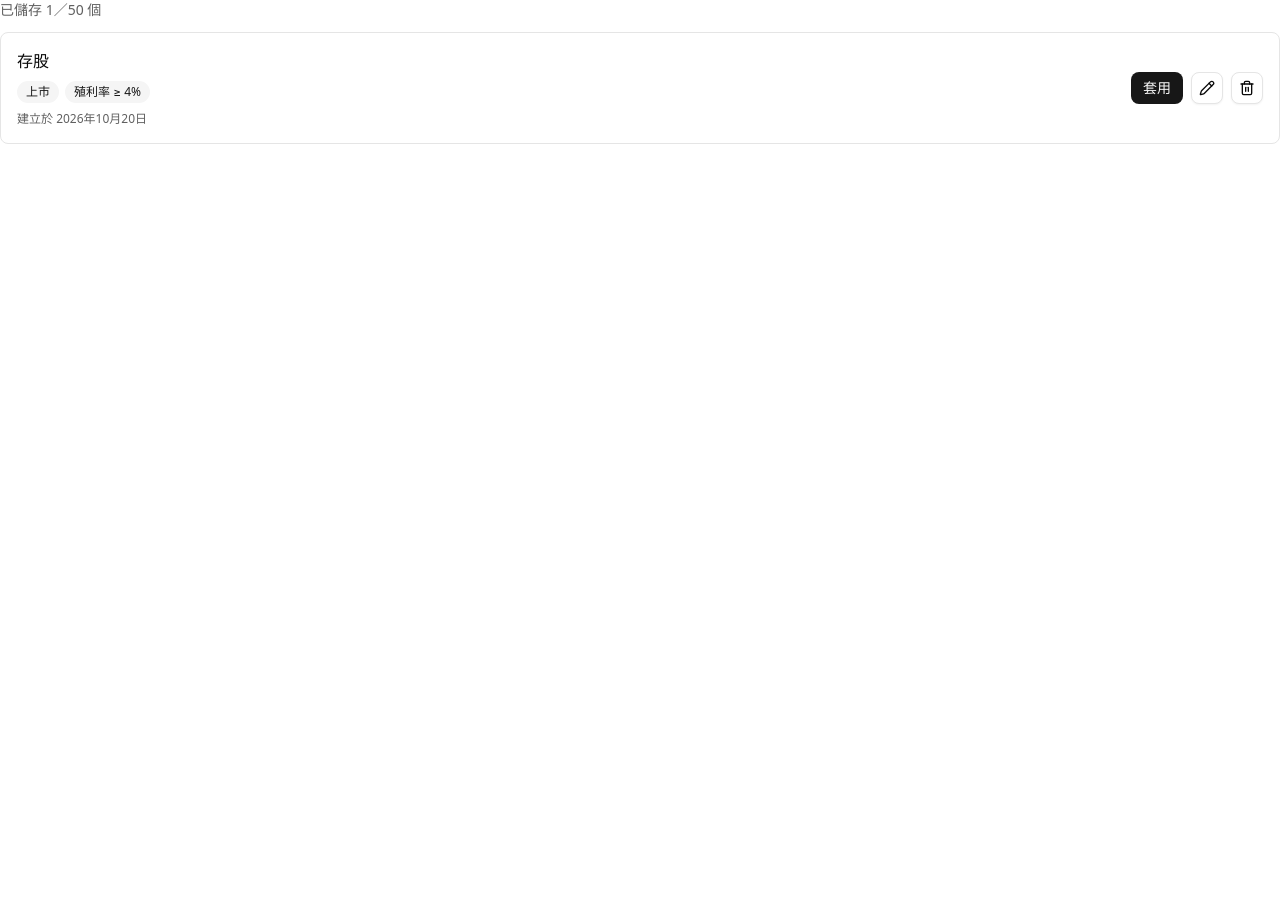
Test: StrategiesView › 列出條件摘要，可以重新命名與刪除
The width and height of the screenshot is (1280, 900).
Check: the text "殖利率 ≥ 4%" is shown, box [65,81,150,103]
Check: the text "上市" is shown, box [17,81,59,103]
Click the button named "重新命名「存股」". click: (1207, 88)
box: [1191,72,1223,104]
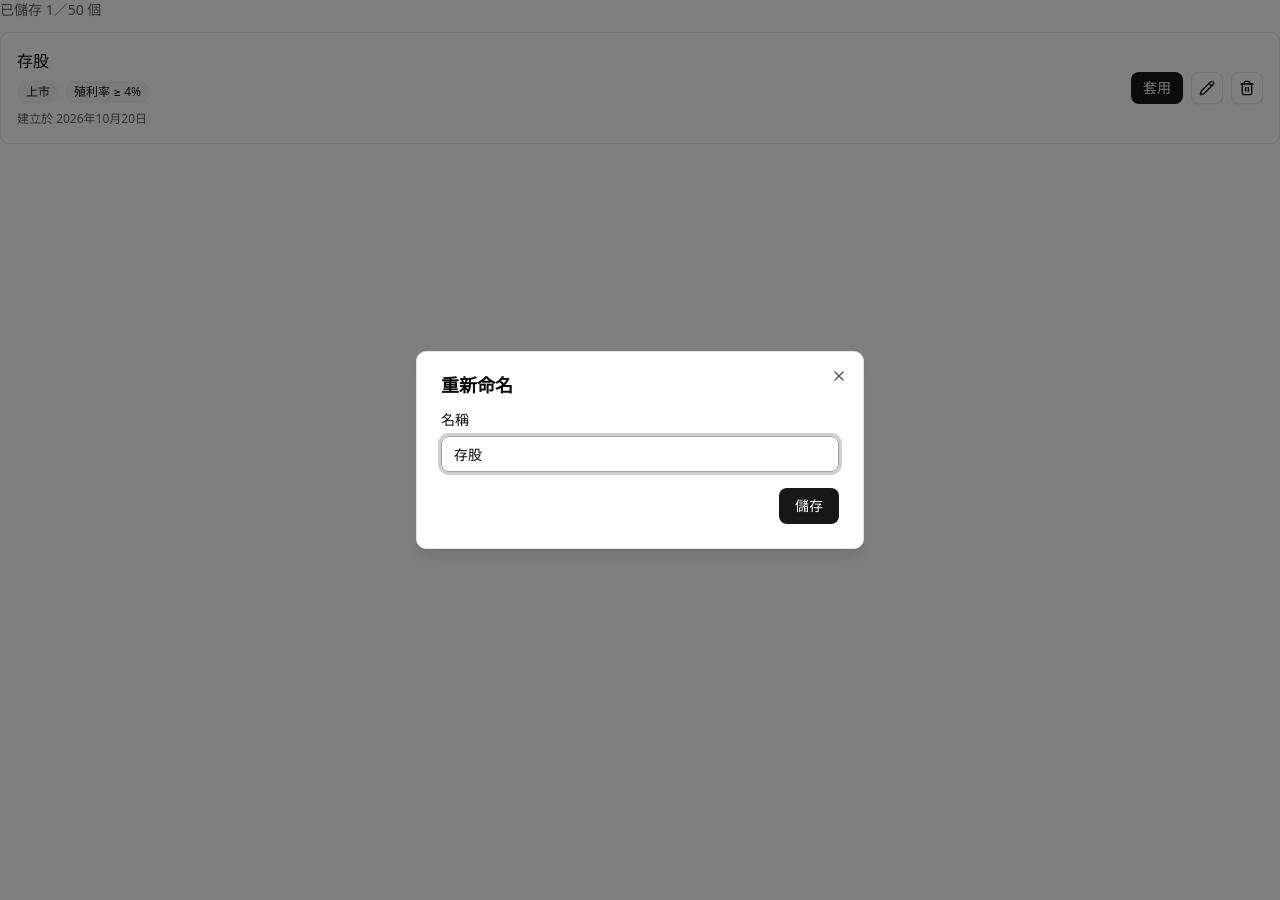
Replace the text in the field labelled "名稱" with "高殖利率". click: (640, 454)
box: [441,436,839,472]
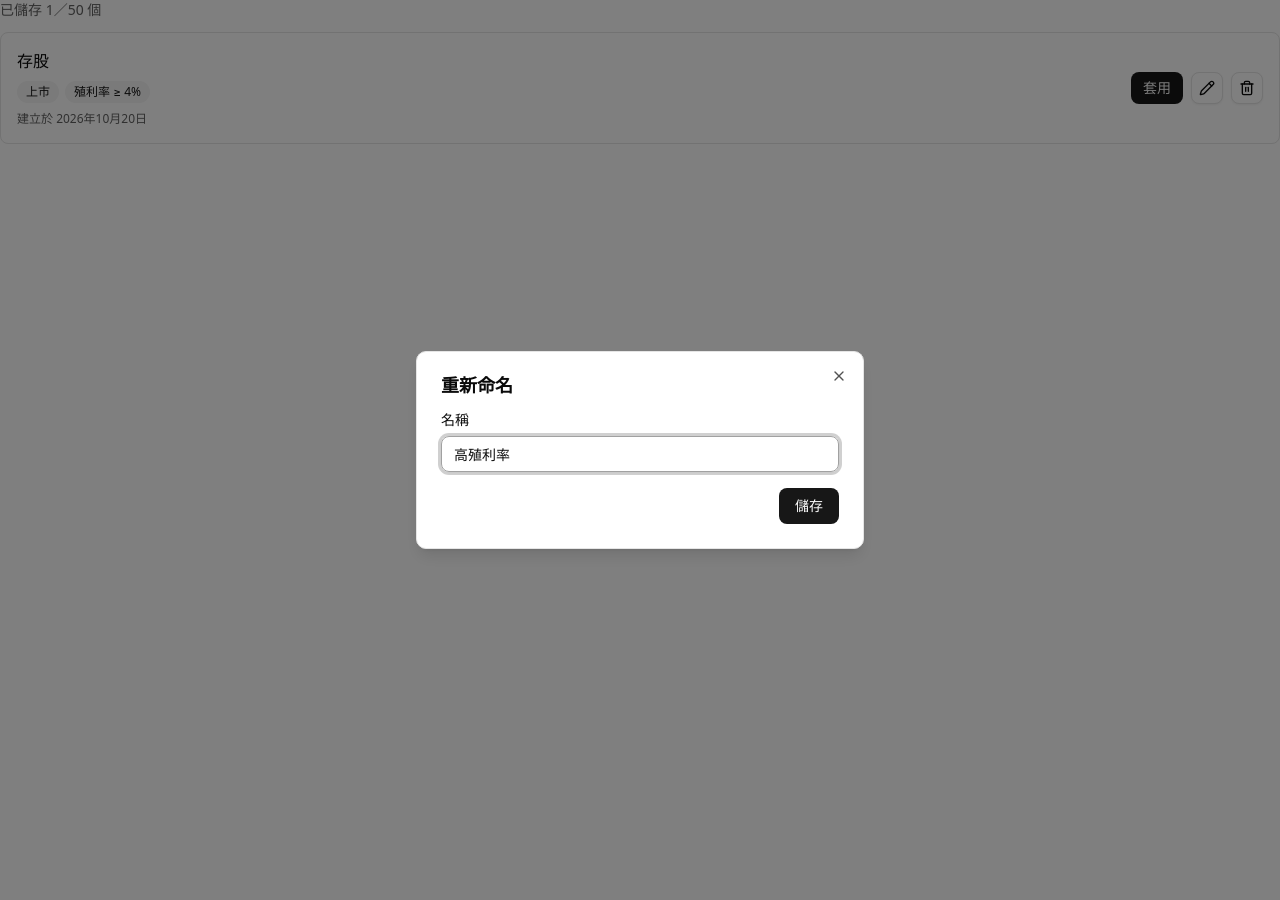
Click the button "儲存". click: (809, 506)
box: [779,488,839,524]
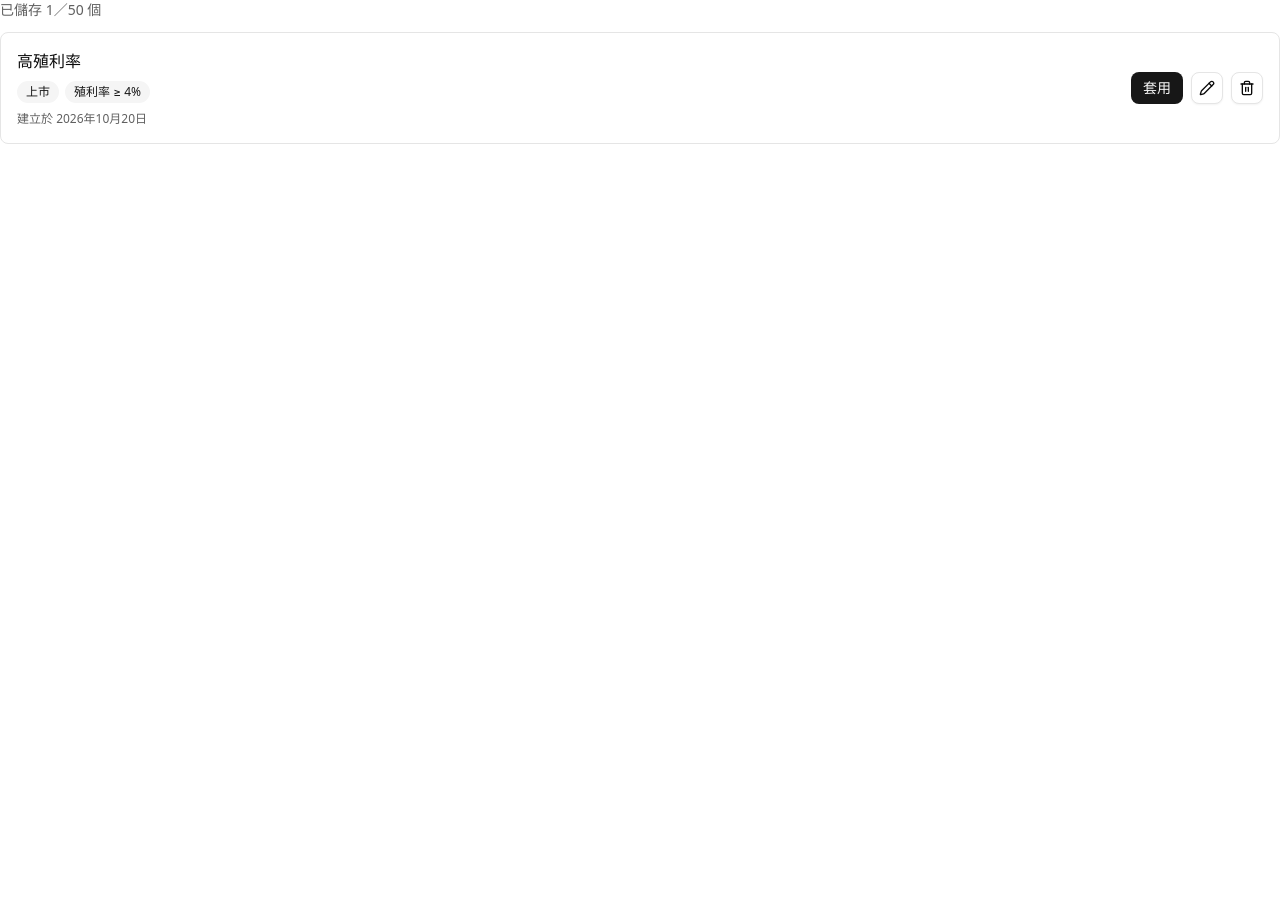
Check: the link "高殖利率" is shown, box [17,50,81,72]
Click the button named "刪除「高殖利率」". click: (1247, 88)
box: [1231,72,1263,104]
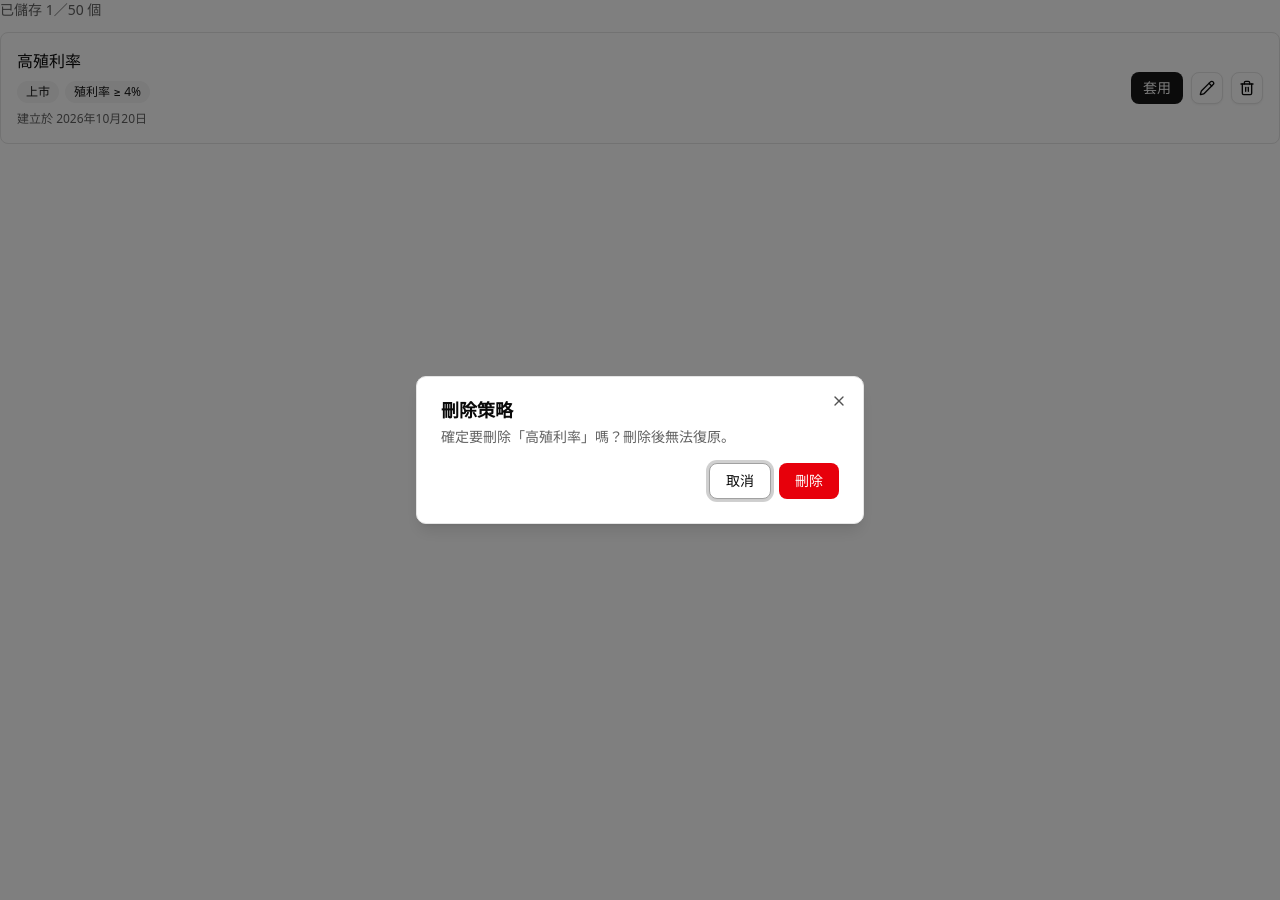
Click the button "刪除". click: (809, 481)
box: [779,463,839,499]
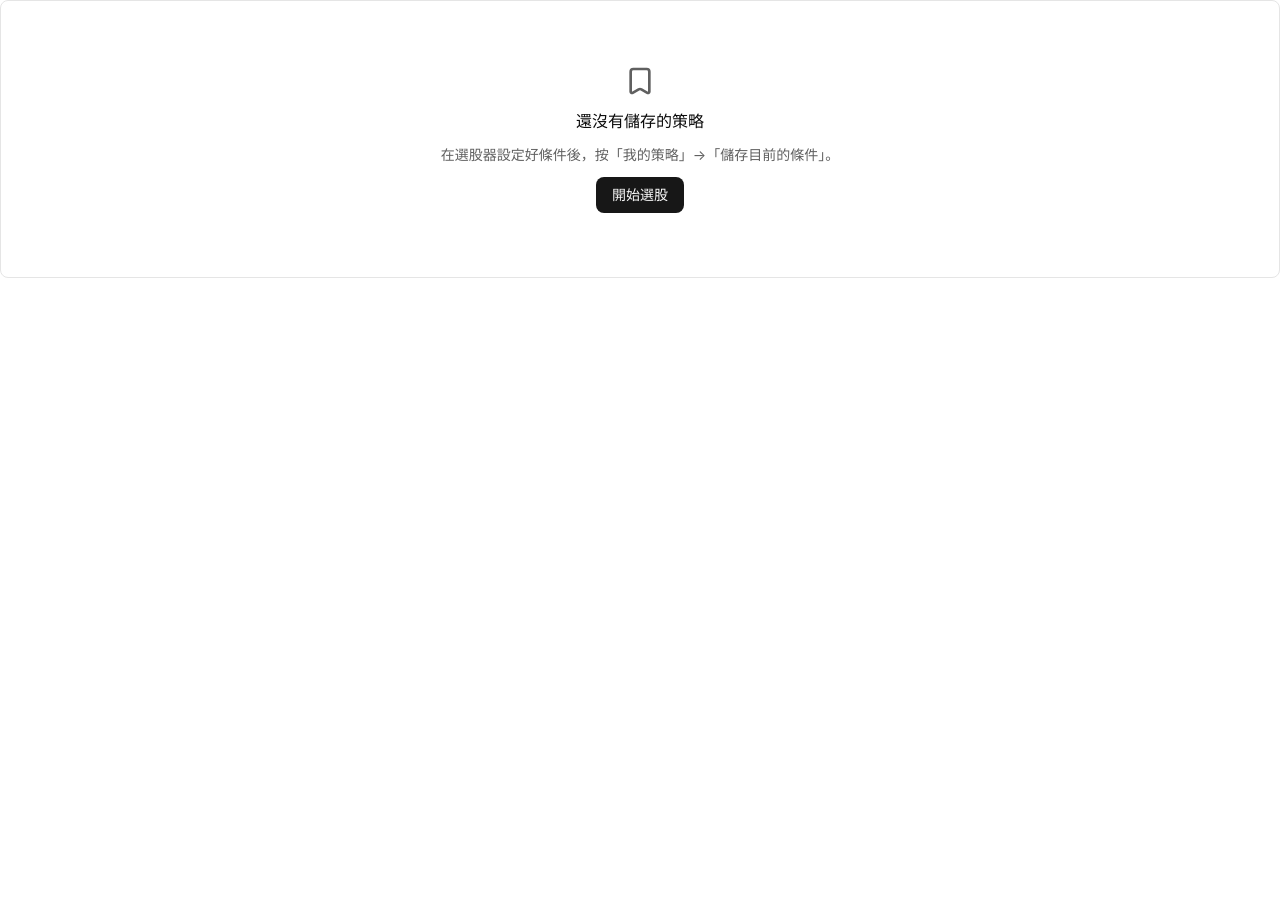
Check: the text "還沒有儲存的策略" is shown, box [576,109,704,133]
